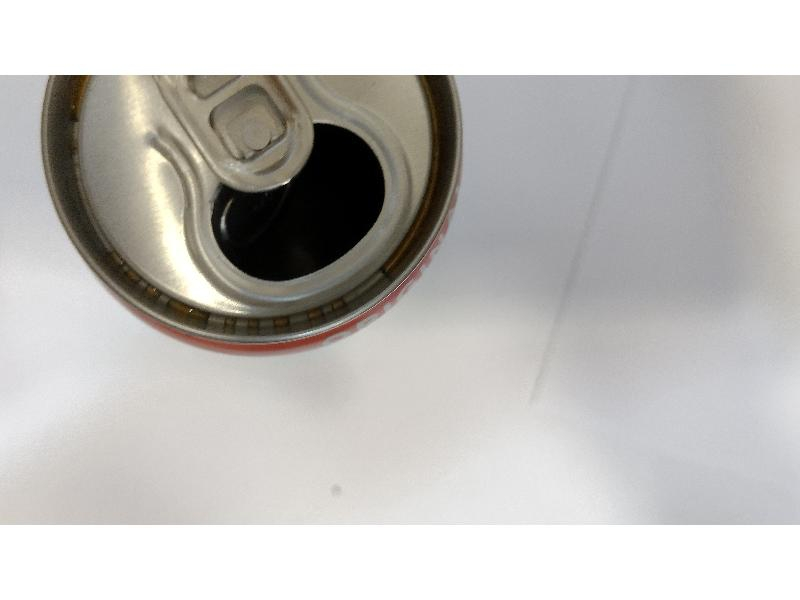can: (44, 76, 466, 361)
